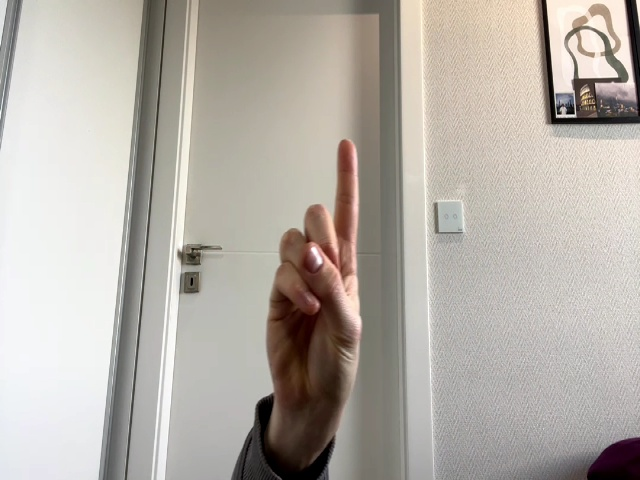Z: (267, 139, 361, 404)
